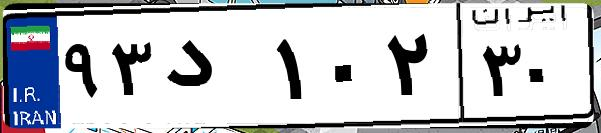0: (330, 28, 385, 110), (525, 38, 570, 115)
1: (270, 28, 330, 110)
2: (385, 28, 445, 110)
3: (475, 38, 525, 113), (110, 28, 158, 98)
9: (57, 26, 110, 100)
د: (158, 20, 270, 120)
